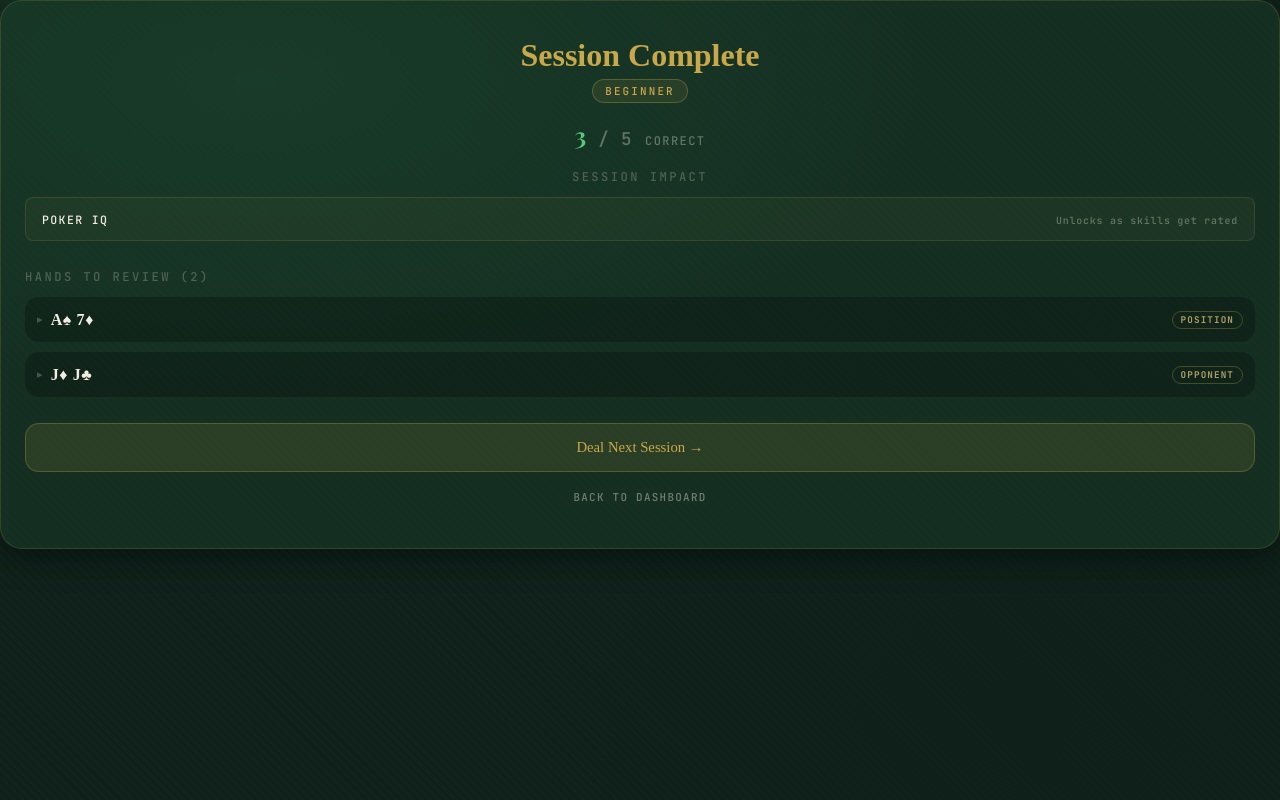
Scenario: tapping an expanded row collapses it again
Click the button with class "ss-hr-row" showing "▸ A♠ 7♦ Position".
click(72, 319)  # box [25,297,1255,342]
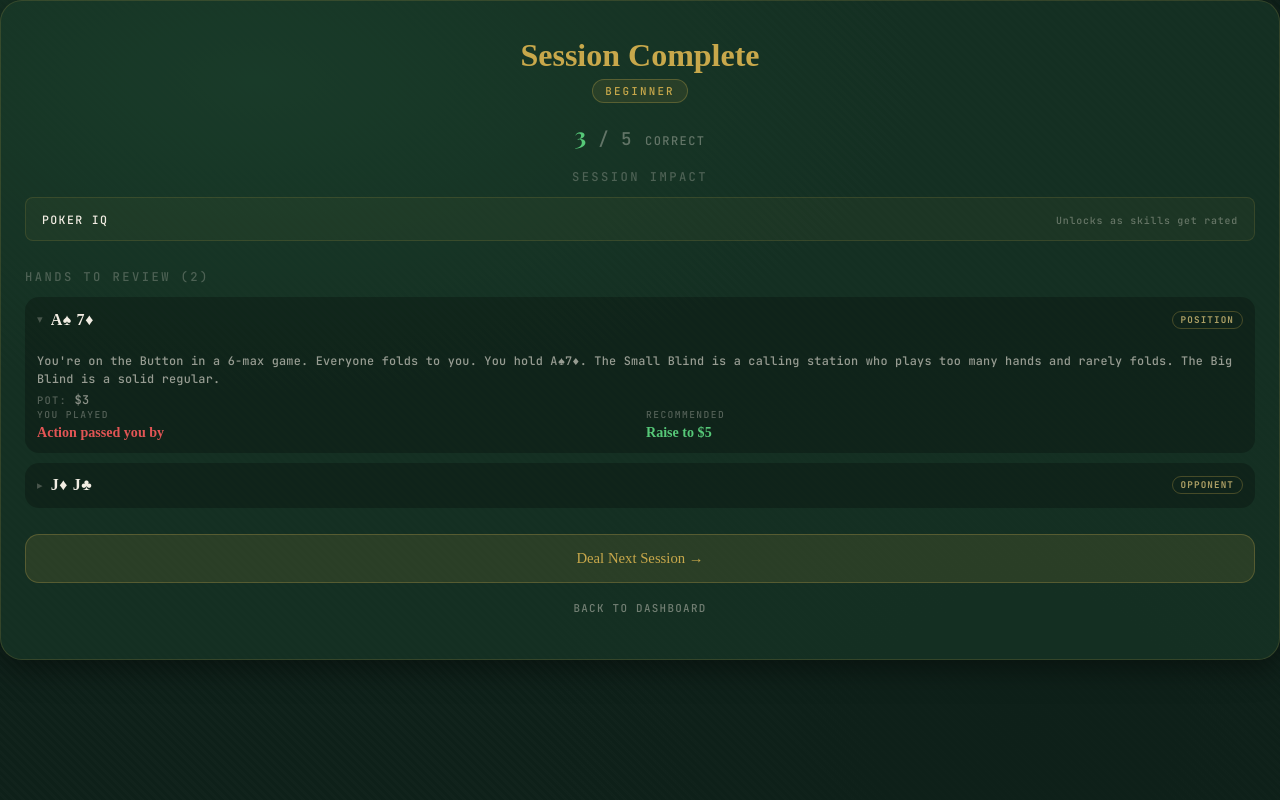
Click the button with class "ss-hr-row" showing "▾ A♠ 7♦ Position".
click(72, 319)  # box [25,297,1255,342]
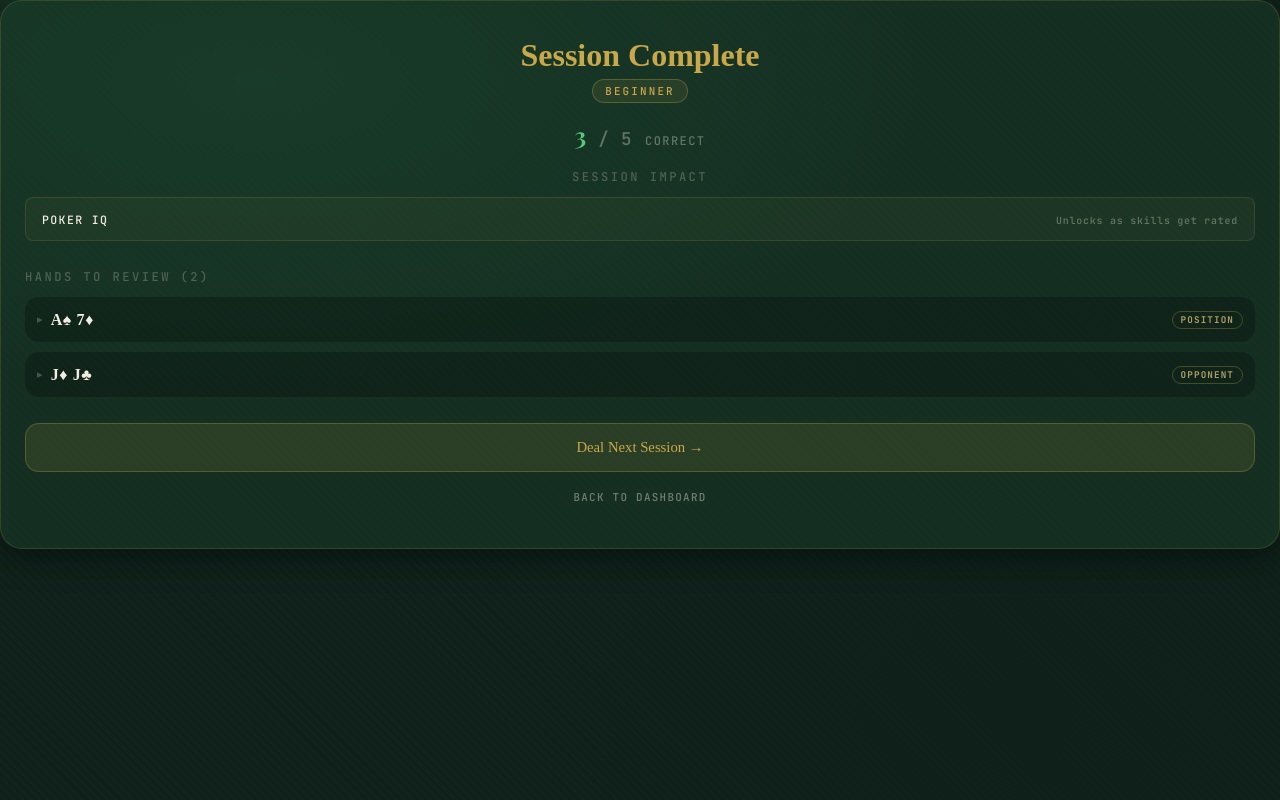
Expected: the element with class "ss-hr-detail" is gone
